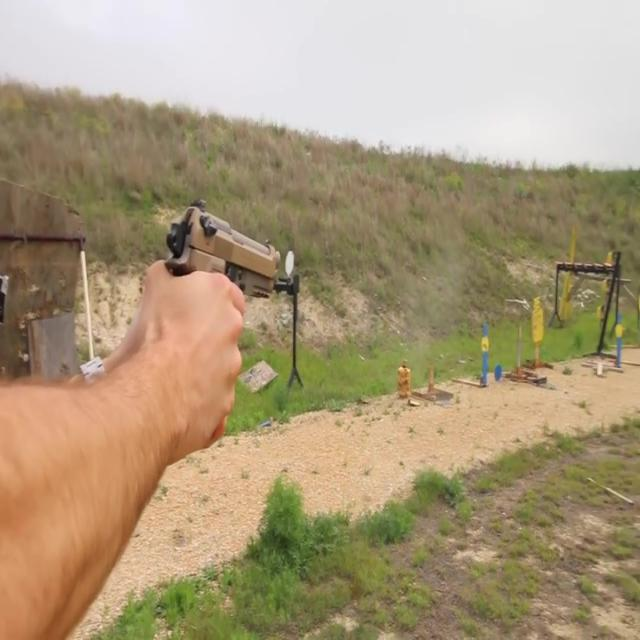Weapon: (136, 159, 308, 360)
